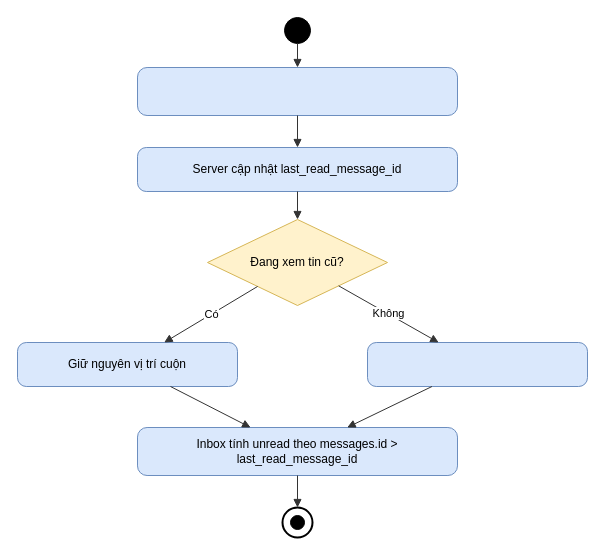
This 605x556 diagram has some shape labels left out. Here are the shapes that lost their labels. From the top down, the box of each, then its label:
(136, 66, 458, 116): Mở hội thoại; clear unread; gửi mark_read kèm message id lớn nhất đang thấy
(366, 342, 588, 386): Cuộn tới tin mới nhất
